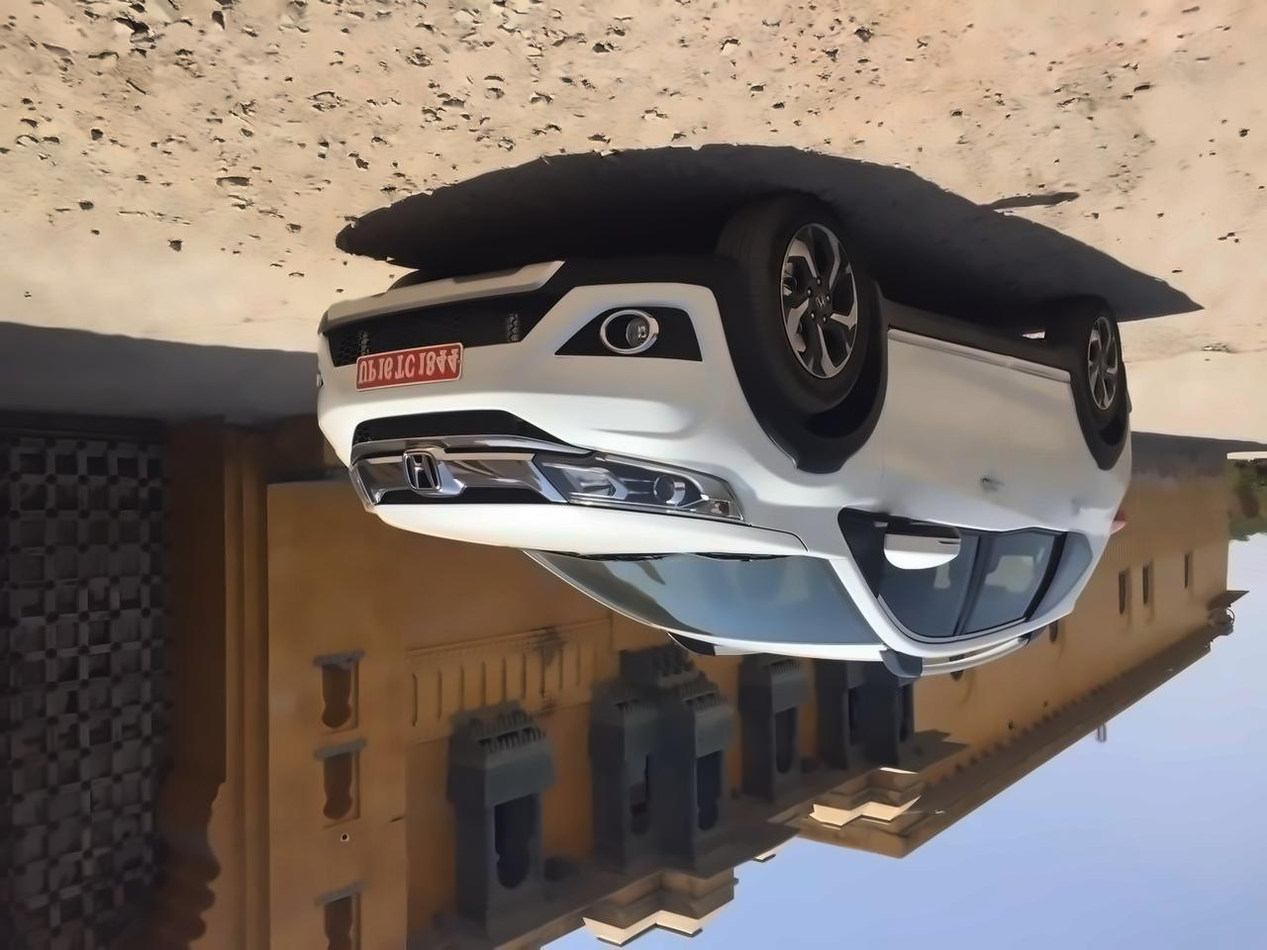Car hood: (366, 495, 814, 557)
Driver-s door - -F-R-: (837, 269, 1029, 674)
Fender - -F-R-: (710, 287, 906, 555)
Fender - -R-R-: (1054, 354, 1139, 548)
Front bumper: (299, 254, 746, 470)
Headlight - -R-: (531, 449, 748, 524)
Passenger-s door - -R-R-: (946, 298, 1095, 675)
Side bumper - -R-: (865, 279, 1079, 434)
Side mirror - -R-: (863, 508, 962, 582)
